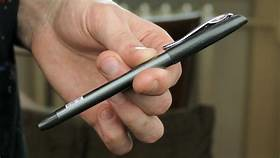pen: (31, 14, 247, 129)
